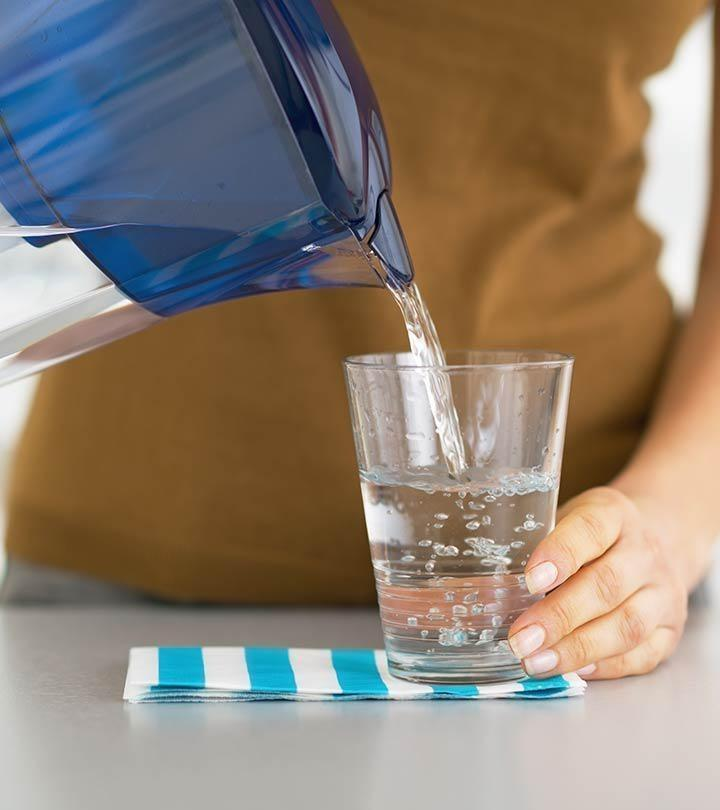glass-normal: (339, 345, 576, 686)
